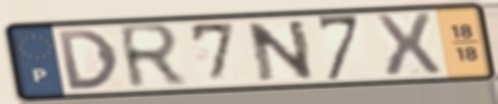7: (316, 14, 366, 83), (188, 20, 240, 86)
D: (54, 27, 122, 93)
N: (243, 17, 319, 84)
R: (114, 20, 190, 93)
X: (371, 11, 445, 80)
